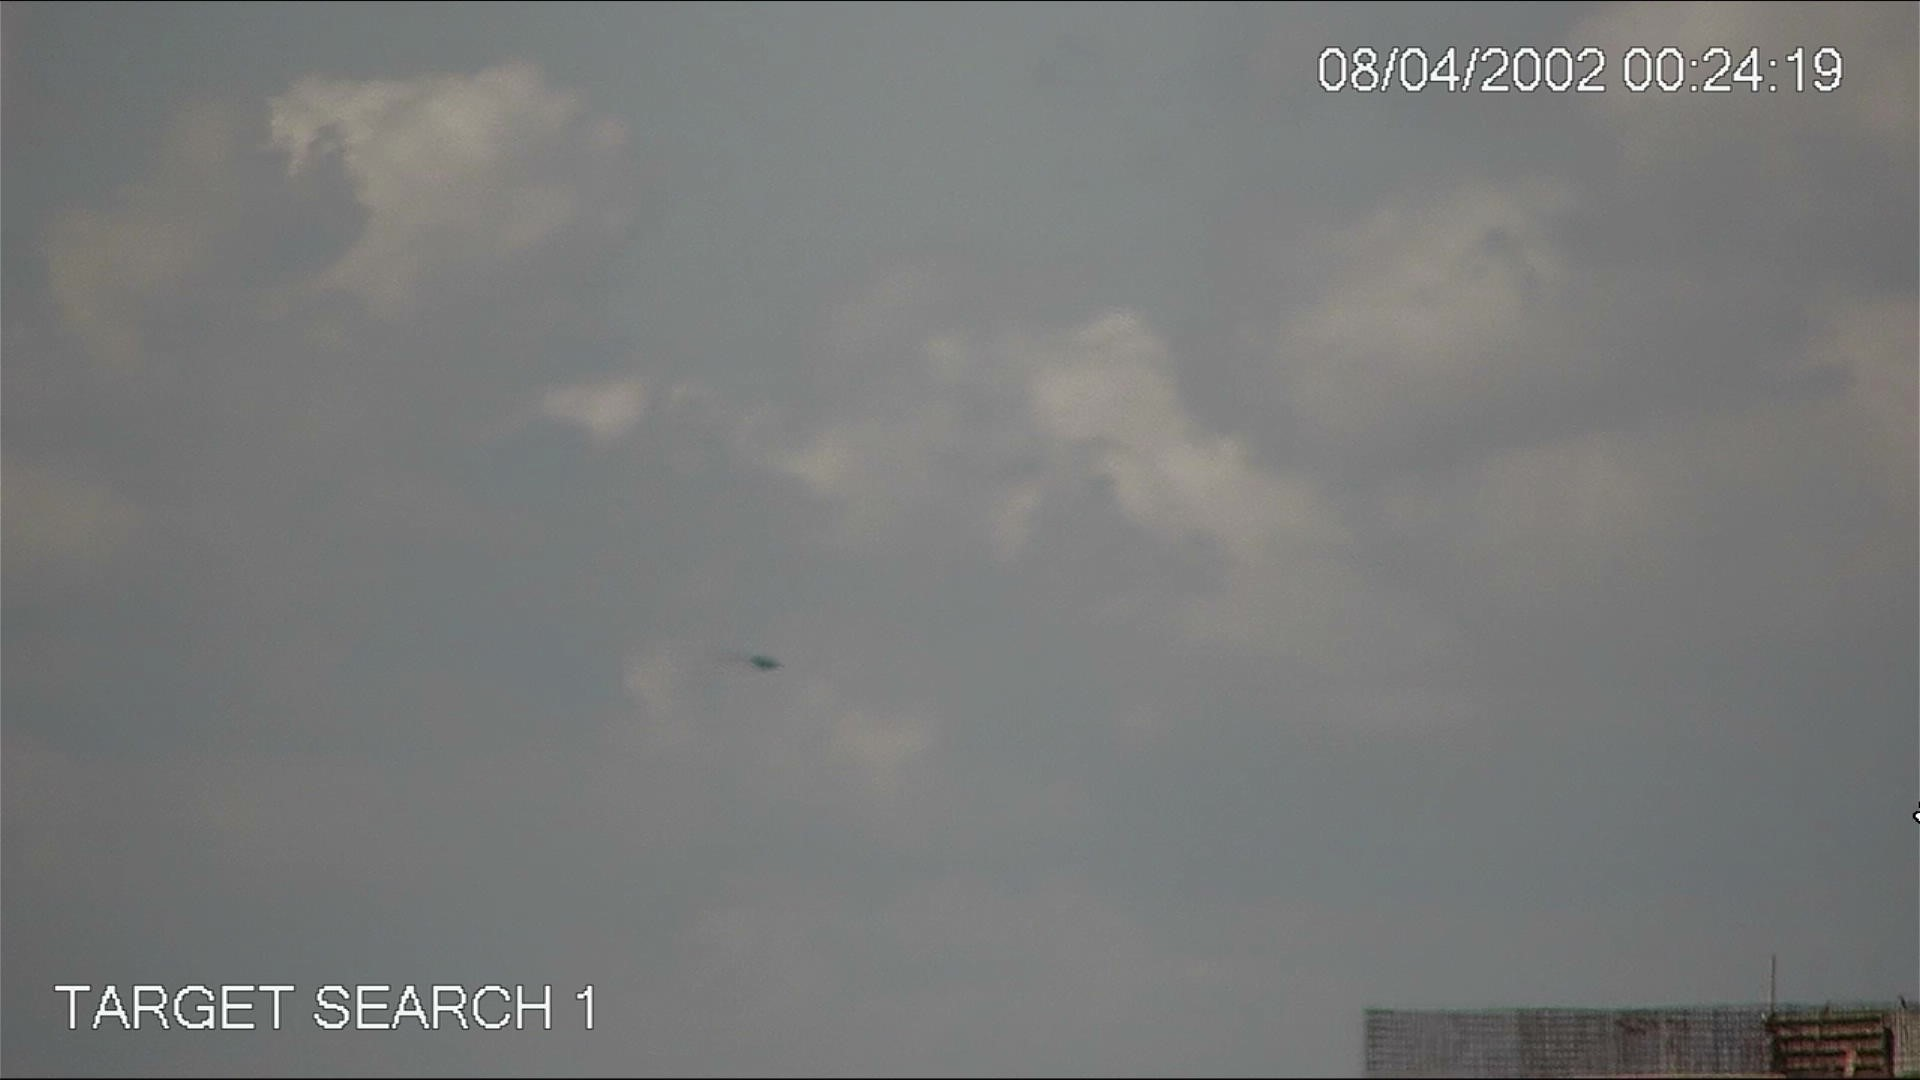SU_30: (709, 644, 789, 675)
